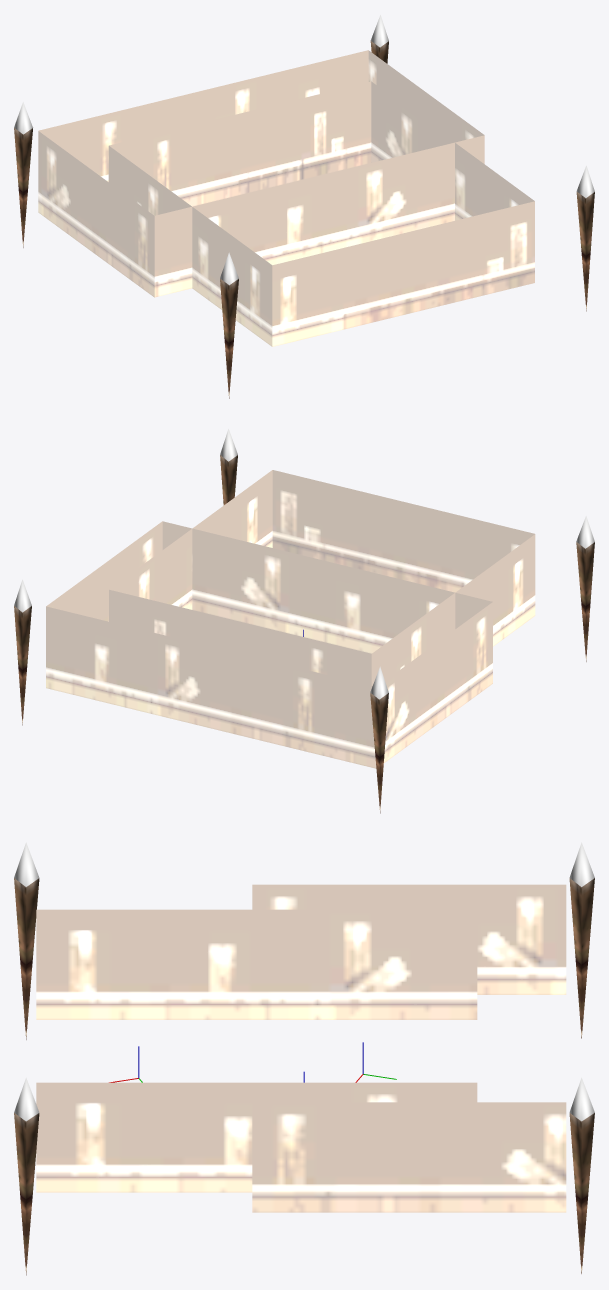
The model's file is greek-house-construction-a.glb.
3 renders of one model, top to bottom at view 1: azimuth 30°, elevation 25°; view 2: azimuth 150°, elevation 25°; view 3: azimuth 270°, elevation 25°, orthographic. The views are drawn at different scales.
Visible parts, largest first — view 1: building construction small aModel; view 2: building construction small aModel; view 3: building construction small aModel.
Boxes of the visible parts, left/top/right/bottom form: building construction small aModel: left=14, top=15, right=594, bottom=398; building construction small aModel: left=14, top=429, right=594, bottom=813; building construction small aModel: left=14, top=842, right=594, bottom=1275.
Bounding box in the file's own units: 4.06 × 1.54 × 4.09.
Materials: 4 (2 with a texture image).
